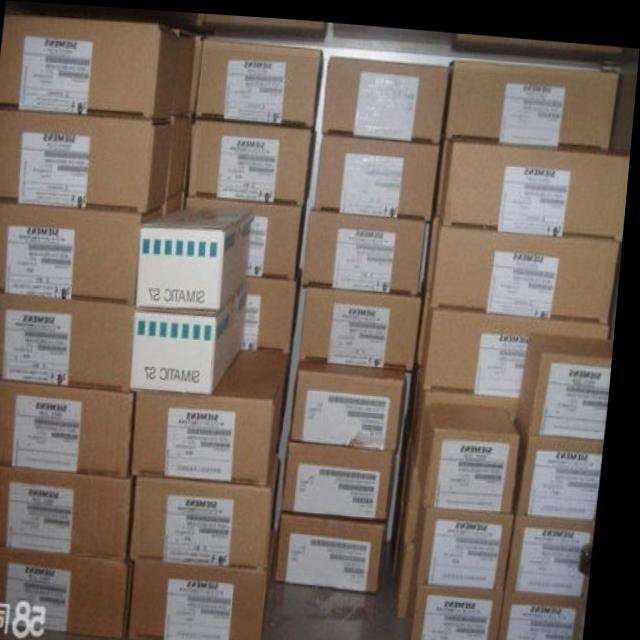box: (136, 345, 297, 481), (439, 133, 632, 231), (435, 215, 624, 313), (0, 14, 178, 116), (425, 302, 612, 395), (0, 109, 173, 209), (0, 199, 169, 301), (139, 454, 289, 565), (443, 53, 621, 145), (140, 534, 282, 640), (0, 377, 143, 475), (0, 460, 143, 557), (0, 292, 139, 390), (0, 542, 142, 635), (136, 277, 252, 390), (141, 205, 256, 310), (195, 37, 326, 124), (189, 116, 319, 201), (323, 51, 449, 138), (306, 203, 433, 289), (318, 129, 444, 215), (424, 398, 526, 502), (298, 357, 412, 446), (523, 330, 619, 435), (188, 193, 311, 274), (420, 489, 524, 584), (306, 284, 427, 364), (418, 376, 524, 467), (520, 407, 610, 512), (291, 437, 405, 515), (285, 507, 399, 584), (415, 564, 514, 640), (515, 507, 601, 585), (246, 261, 305, 351), (509, 584, 591, 640), (174, 28, 197, 114), (171, 115, 195, 196), (402, 520, 422, 610), (409, 437, 427, 536)
